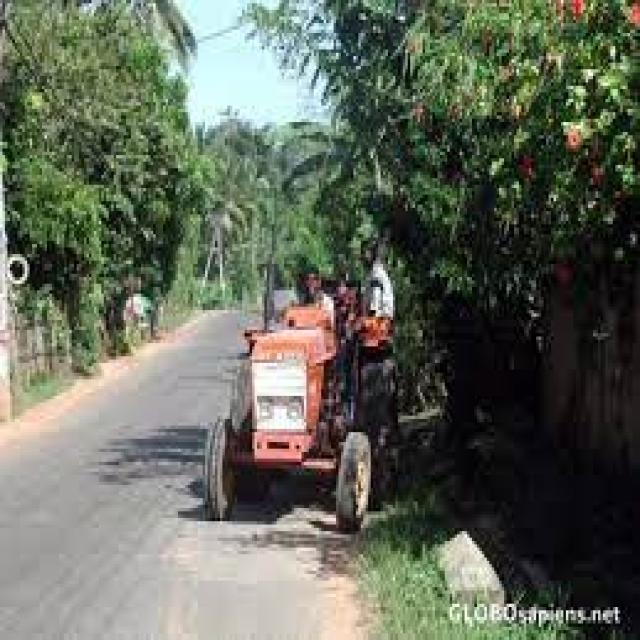person: (361, 241, 393, 327), (284, 274, 334, 327)
tractor: (208, 297, 395, 531)
